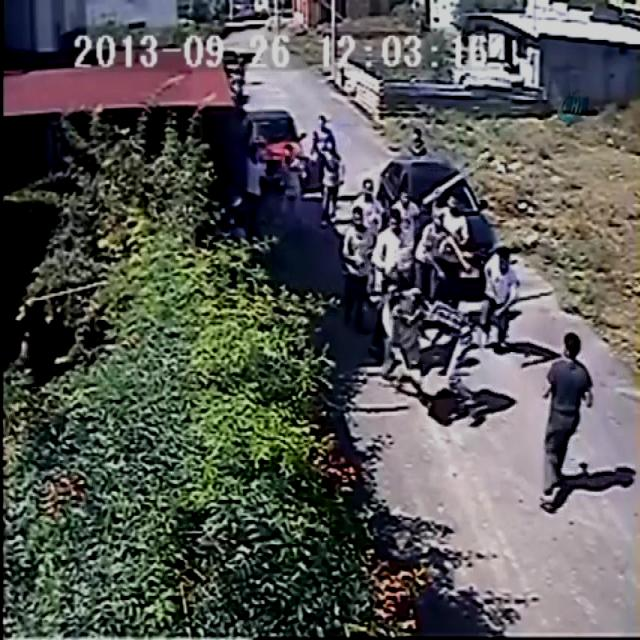fight: (382, 268, 476, 432)
